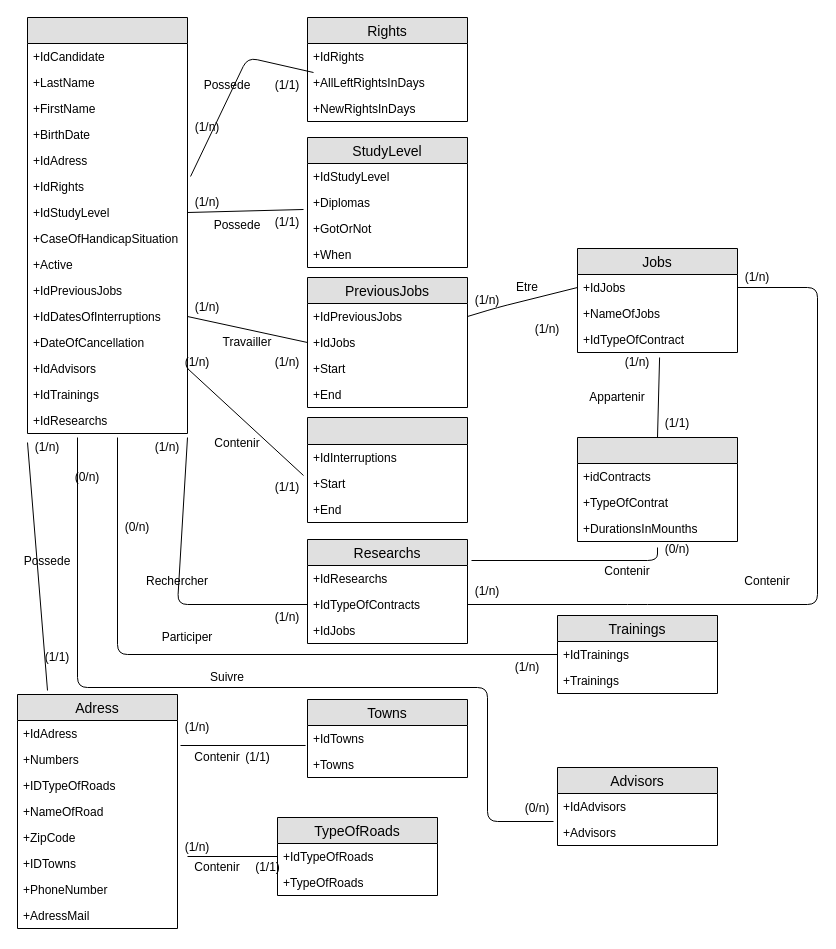
This 836x949 diagram has some shape labels left out. The shapes that lost their labels are listed below. From the top down, each one's box as (x1, y1, x2, y2) in pixels, then its label:
(26, 16, 188, 434): Candidates
(306, 416, 468, 522): DateOfInterruptions
(576, 436, 738, 542): TypeOfContracts
